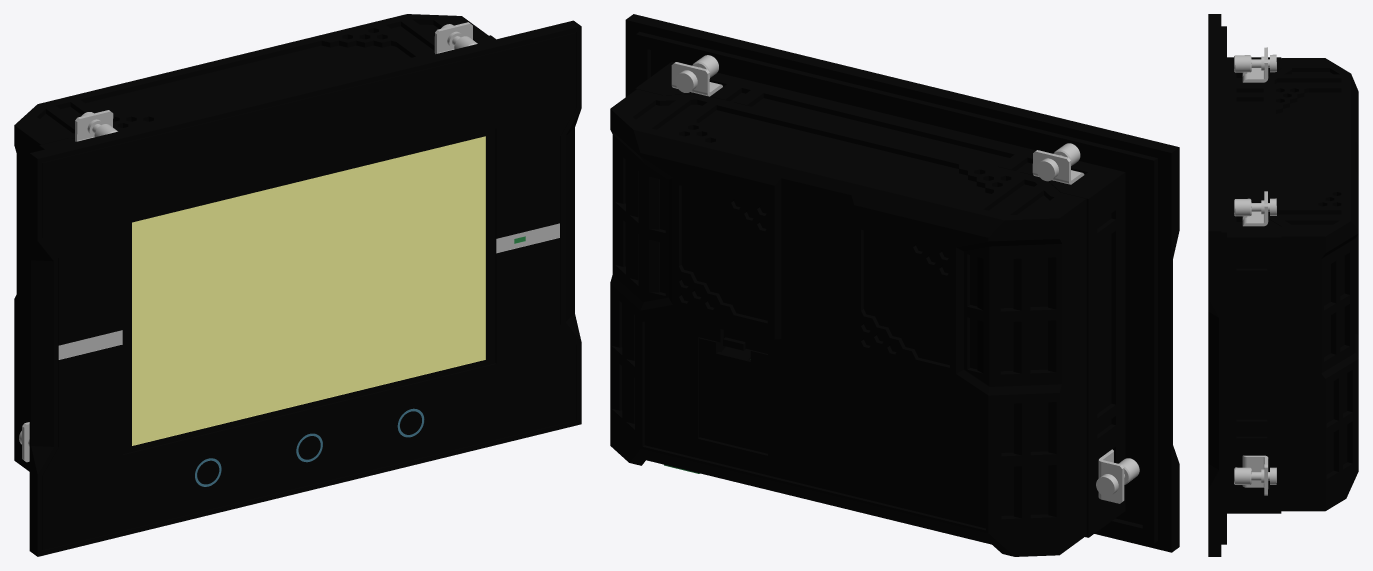
The picture shows the model from 3 angles, left to right: view 1: azimuth 30°, elevation 25°; view 2: azimuth 150°, elevation 25°; view 3: azimuth 270°, elevation 25°; orthographic projection. The views are drawn at different scales.
Visible parts, largest first — view 1: _ncl1_5, _ncl1_9, _ncl1_3, _ncl1_19, _ncl1_27, _ncl1_7; view 2: _ncl1_5, NA5_7W001B_V1_COVER2, NA5_7W001B_V1, _ncl1_23, _ncl1_19, _ncl1_27, NA5_7W001B_V1_SCREW; view 3: _ncl1_5, NA5_7W001B_V1, _ncl1_25, NA5_7W001B_V1_SCREW, _ncl1_19, _ncl1_27.
Boxes of the visible parts, x1,y1,x2,y2 form: _ncl1_5: [14, 14, 581, 556]; _ncl1_9: [132, 136, 485, 445]; _ncl1_3: [58, 223, 559, 359]; _ncl1_19: [434, 22, 472, 54]; _ncl1_27: [75, 110, 113, 141]; _ncl1_7: [195, 408, 424, 486]; _ncl1_5: [610, 14, 1179, 556]; NA5_7W001B_V1_COVER2: [698, 337, 767, 453]; NA5_7W001B_V1: [1036, 143, 1139, 496]; _ncl1_23: [1098, 449, 1124, 503]; _ncl1_19: [671, 62, 722, 96]; _ncl1_27: [1032, 150, 1084, 184]; NA5_7W001B_V1_SCREW: [675, 55, 718, 92]; _ncl1_5: [1208, 14, 1358, 556]; NA5_7W001B_V1: [1234, 54, 1276, 484]; _ncl1_25: [1242, 455, 1268, 495]; NA5_7W001B_V1_SCREW: [1234, 198, 1276, 216]; _ncl1_19: [1242, 191, 1268, 226]; _ncl1_27: [1242, 47, 1268, 82].
Size of the model in its own units: 0.236 by 0.165 by 0.0691.
